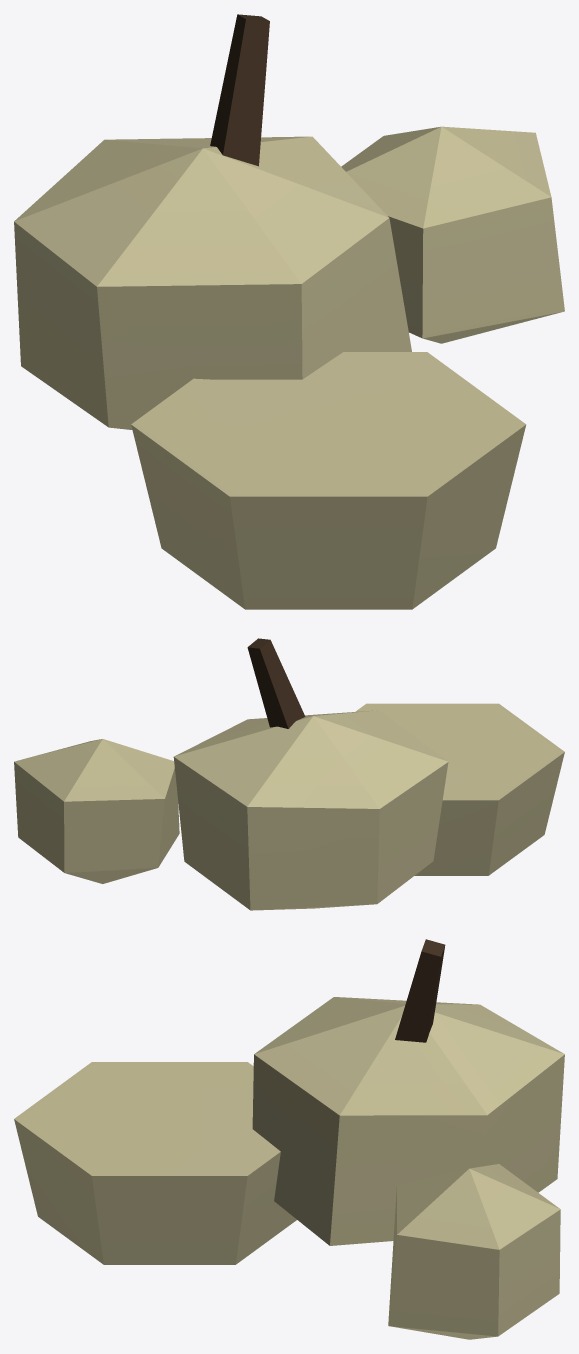
The model's file is caral_gourd_lod1.glb.
The picture shows the model from 3 angles, top to bottom: view 1: azimuth 30°, elevation 25°; view 2: azimuth 150°, elevation 25°; view 3: azimuth 270°, elevation 25°; orthographic projection. The views are drawn at different scales.
Visible parts, largest first — view 1: GEO-Props_gourd_LOD1; view 2: GEO-Props_gourd_LOD1; view 3: GEO-Props_gourd_LOD1.
Boxes of the visible parts, box(x1,y1,x2,y2) form: GEO-Props_gourd_LOD1: box(14, 14, 564, 609); GEO-Props_gourd_LOD1: box(14, 638, 564, 910); GEO-Props_gourd_LOD1: box(14, 939, 564, 1339).
Bounding box in the file's own units: 0.4288 × 0.2898 × 0.4598.
